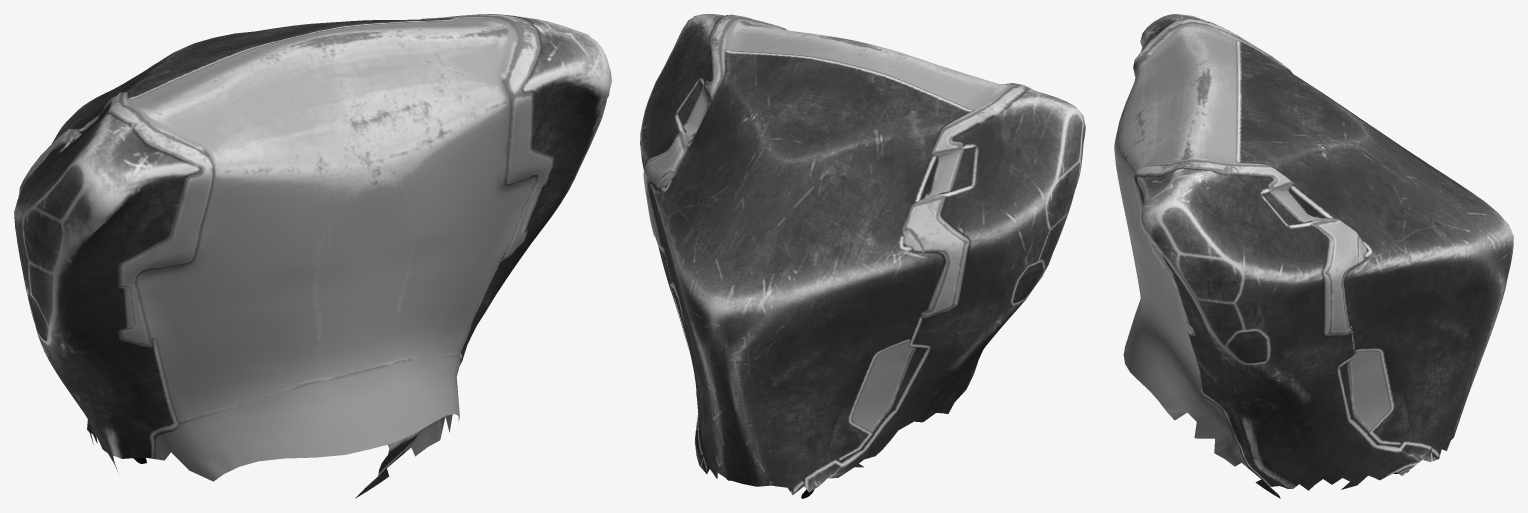
Rendered from robot3forward-compressed.glb.
3 views of the same model, side by side, from view 1: azimuth 30°, elevation 25°; view 2: azimuth 150°, elevation 25°; view 3: azimuth 270°, elevation 25° (orthographic). The views are drawn at different scales.
Visible parts, largest first — view 1: Object_2; view 2: Object_2; view 3: Object_2.
Part boxes in pixels (x1,y1,x2,y2): Object_2: (14,14,611,498); Object_2: (640,14,1085,498); Object_2: (1114,14,1513,498).
Bounding box in the file's own units: 0.9833 × 0.8951 × 0.8316.
Materials: 1 (1 with a texture image).
